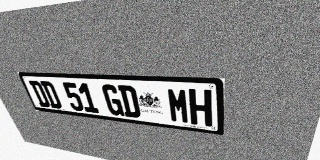1: (76, 83, 99, 113)
5: (62, 82, 85, 112)
D: (117, 85, 141, 118), (28, 80, 51, 108), (40, 81, 63, 109)
G: (101, 84, 125, 116)
H: (188, 89, 212, 127)
M: (166, 87, 190, 124)
